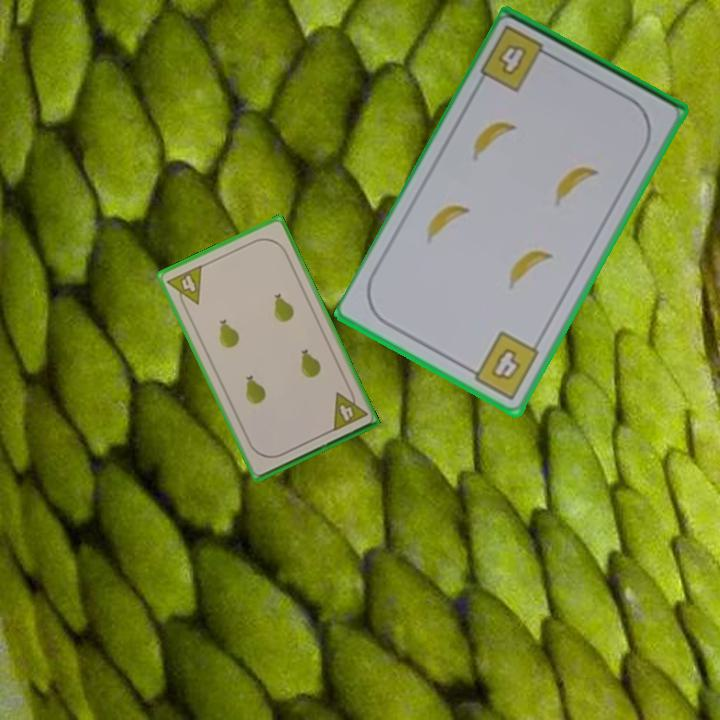4b: (463, 327, 542, 403), (477, 22, 558, 93)
4p: (163, 261, 205, 313), (328, 384, 370, 434)
